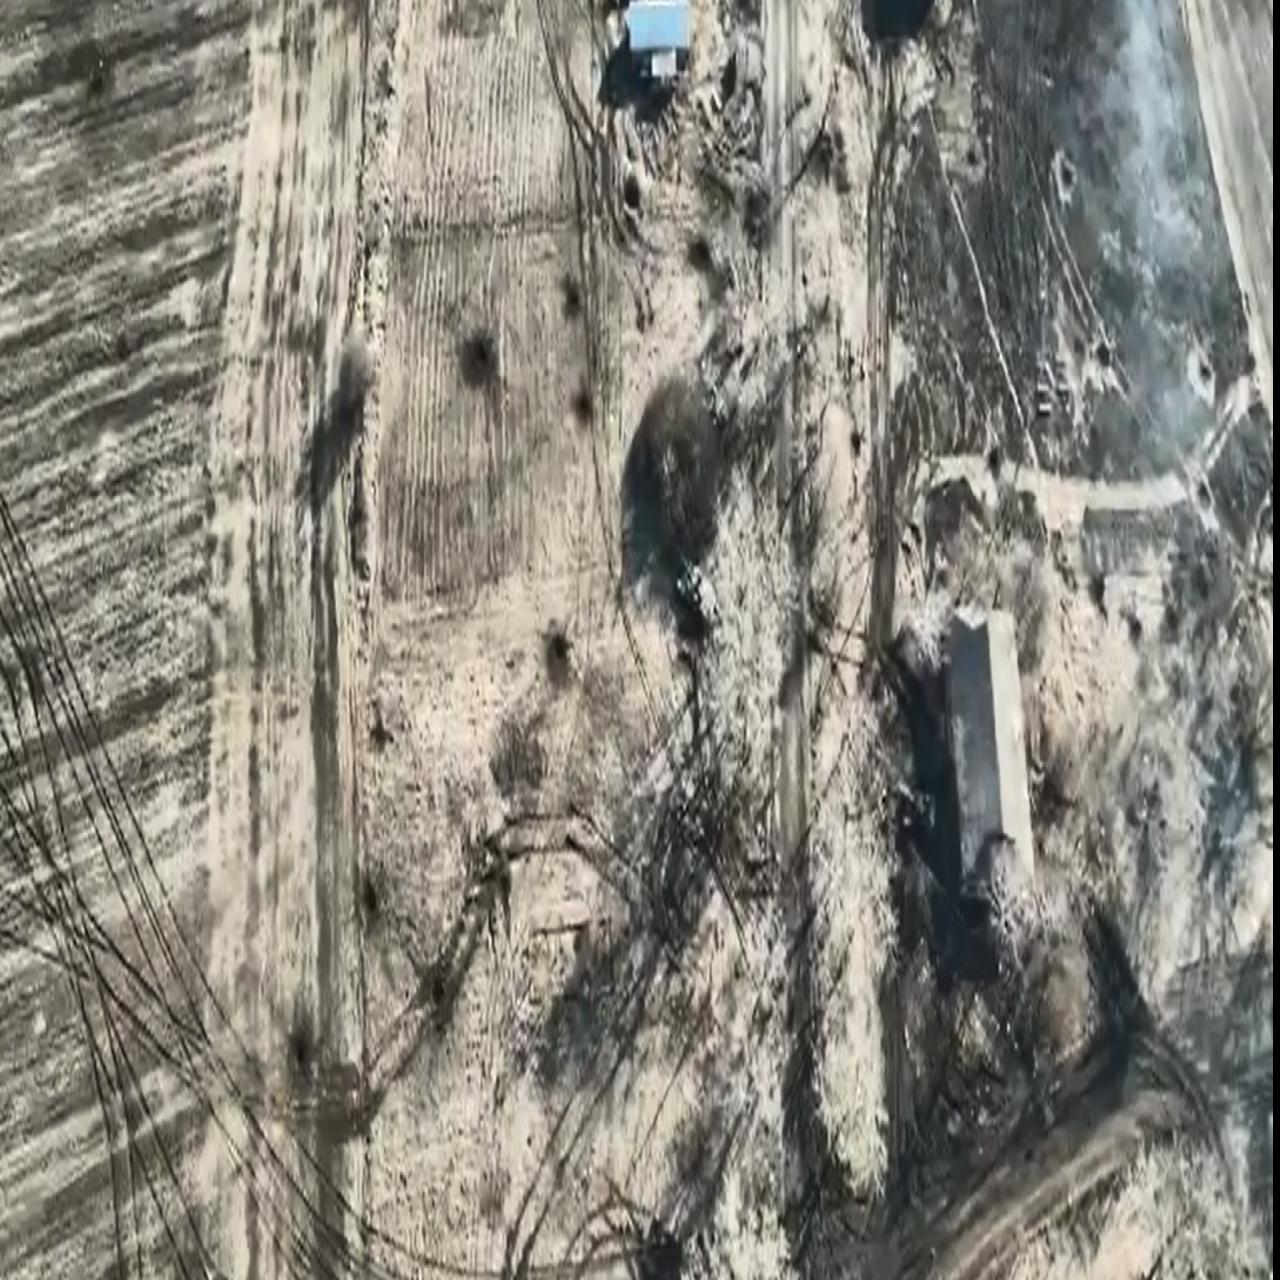MIL_Veh: (659, 537, 721, 646), (880, 771, 938, 844)
